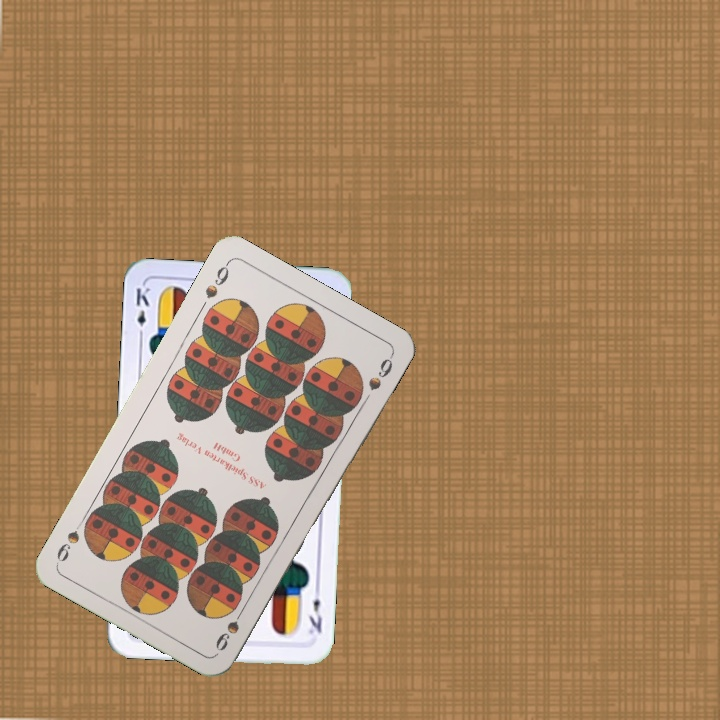EK: (131, 283, 152, 342), (304, 582, 325, 637)
S9: (211, 601, 249, 654), (200, 258, 232, 301)
